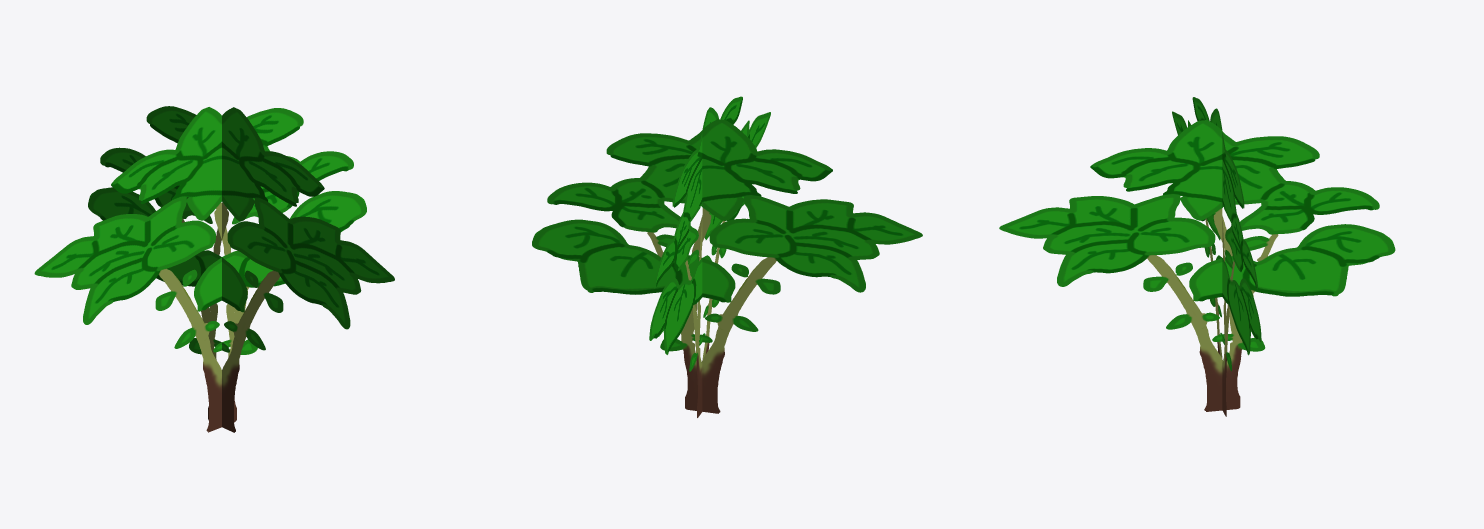
The model's file is PapaF1.glb.
3 renders of one model, left to right at view 1: azimuth 30°, elevation 25°; view 2: azimuth 150°, elevation 25°; view 3: azimuth 270°, elevation 25°, orthographic. The views are drawn at different scales.
Visible parts, largest first — view 1: PapaF1; view 2: PapaF1; view 3: PapaF1.
Part boxes in pixels (x1,y1,x2,y2): PapaF1: (34,106,394,432); PapaF1: (532,96,922,417); PapaF1: (999,97,1395,416).
Size of the model in its own units: 0.2942 by 0.1917 by 0.2942.
Materials: 1 (1 with a texture image).
